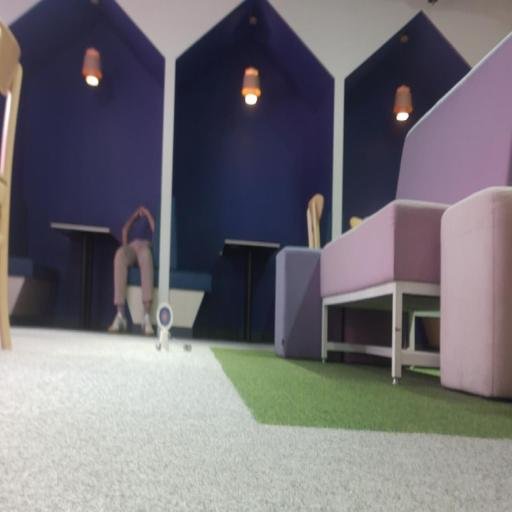target: (157, 303, 173, 329)
